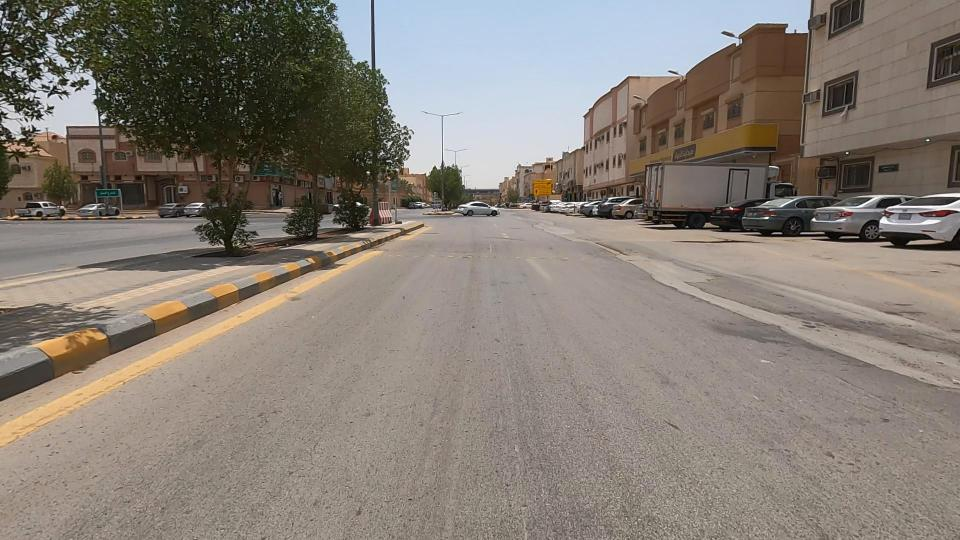POTHOLES: (659, 236, 935, 406), (556, 213, 728, 314)
